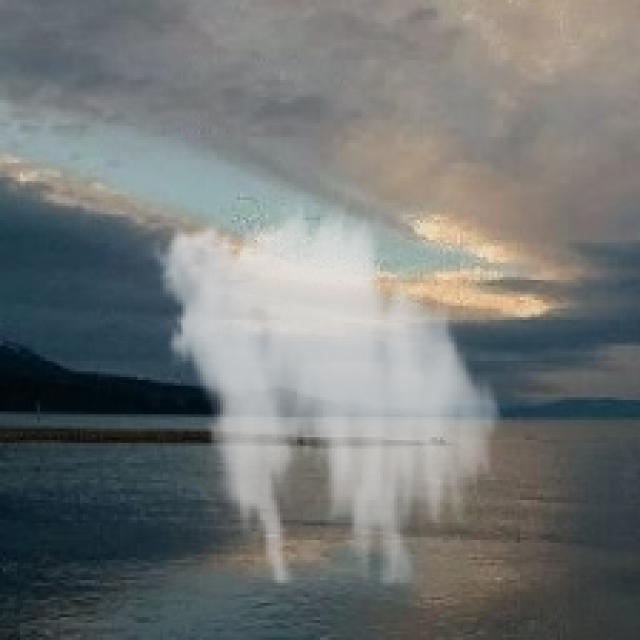smoke: (143, 194, 511, 586)
